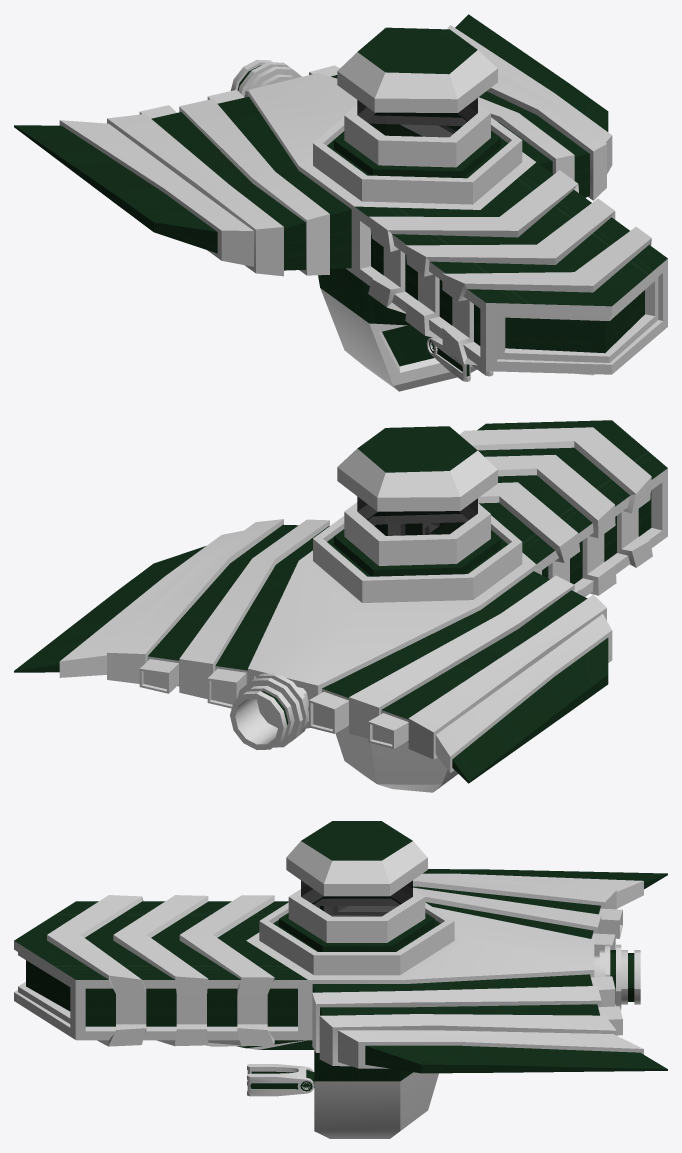
File: DAD.fbx
3 renders of one model, top to bottom at view 1: azimuth 30°, elevation 25°; view 2: azimuth 150°, elevation 25°; view 3: azimuth 270°, elevation 25°, orthographic. The views are drawn at different scales.
Visible parts, largest first — view 1: DAD; view 2: DAD; view 3: DAD.
Part boxes in pixels (<box>): DAD: <box>14,14,667,391</box>; DAD: <box>14,420,667,792</box>; DAD: <box>14,821,667,1138</box>.
Bounding box in the file's own units: 6.01 × 4.06 × 8.49.
